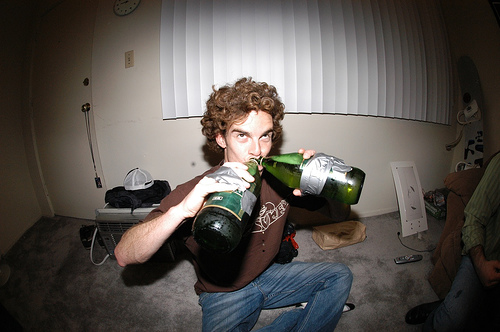without_mask: (216, 109, 274, 175)
